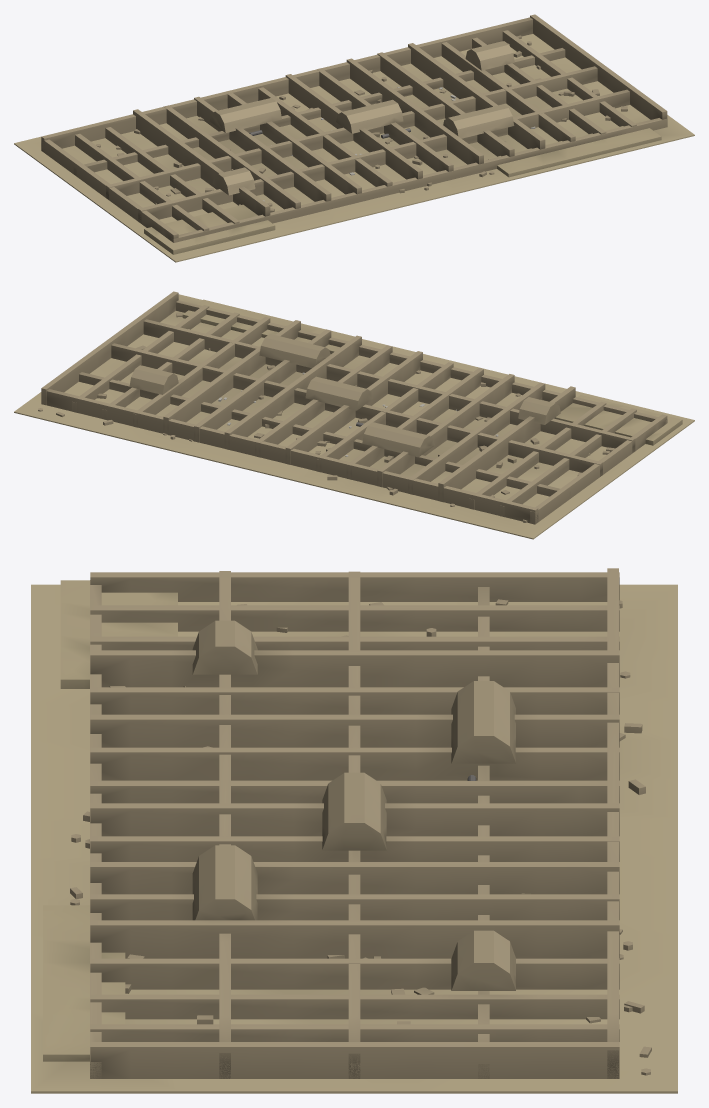
File: antonine-baths-ruin.glb
The picture shows the model from 3 angles, top to bottom: view 1: azimuth 30°, elevation 25°; view 2: azimuth 150°, elevation 25°; view 3: azimuth 270°, elevation 25°; orthographic projection. The views are drawn at different scales.
Visible parts, largest first — view 1: p0_basement, p1_vaults, p2_columns; view 2: p0_basement, p1_vaults, p2_columns; view 3: p0_basement, p1_vaults, p2_columns.
Part boxes in pixels (bbox=[...]): p0_basement: bbox=[14, 14, 694, 262]; p1_vaults: bbox=[96, 35, 627, 212]; p2_columns: bbox=[144, 87, 661, 254]; p0_basement: bbox=[14, 291, 694, 539]; p1_vaults: bbox=[38, 312, 615, 522]; p2_columns: bbox=[182, 299, 682, 456]; p0_basement: bbox=[31, 568, 677, 1093]; p1_vaults: bbox=[70, 599, 651, 1075]; p2_columns: bbox=[43, 580, 476, 1061].
Size of the model in its own units: 204 by 10.81 by 110.
